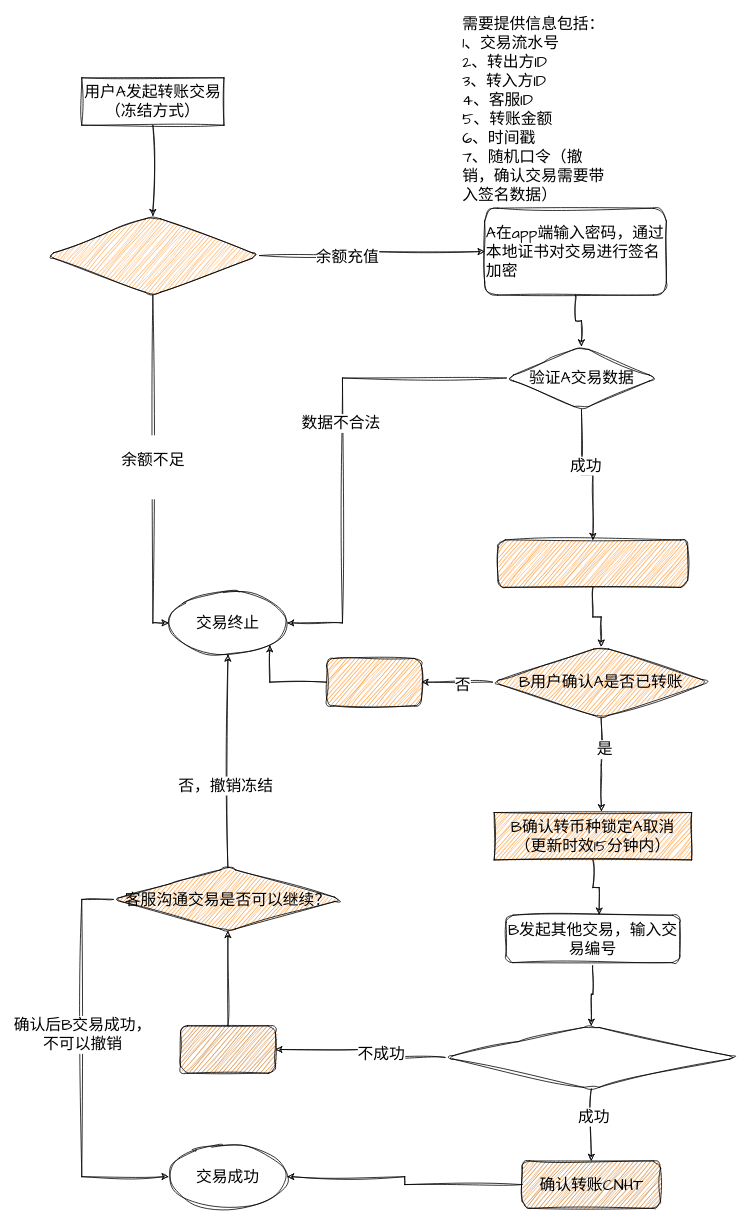
The diagram is 751 pixels wide and 1222 high, and some of its shapes have lost their labels. The shapes that lost their labels are listed below. From the top down, each one's box as (x1, y1, x2, y2) in pixels, then its label:
(45, 215, 260, 295): A可用 余额是否足够 （含交易费）
(497, 539, 688, 587): 冻结A的账户资金 （时效15分钟）
(326, 658, 421, 706): B撤销交易
(180, 1025, 275, 1073): 申请撤销
(444, 1025, 737, 1089): A检查后确认是否成功？
